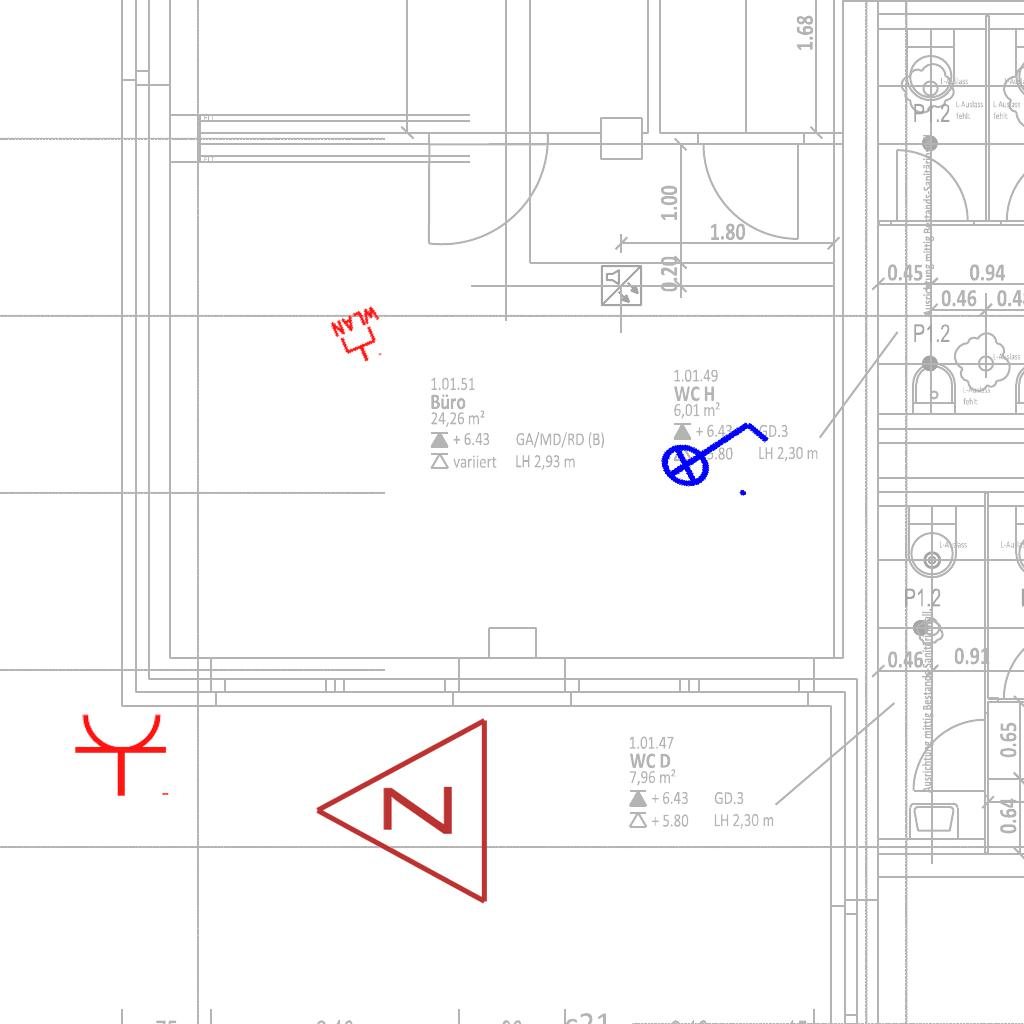Ausschalter_beleuchtet: (640, 381, 784, 517)
Schukosteckdose_einfach: (73, 711, 173, 798)
WLAN: (327, 302, 397, 372)
Zimmersignalleuchte: (302, 715, 502, 911)
